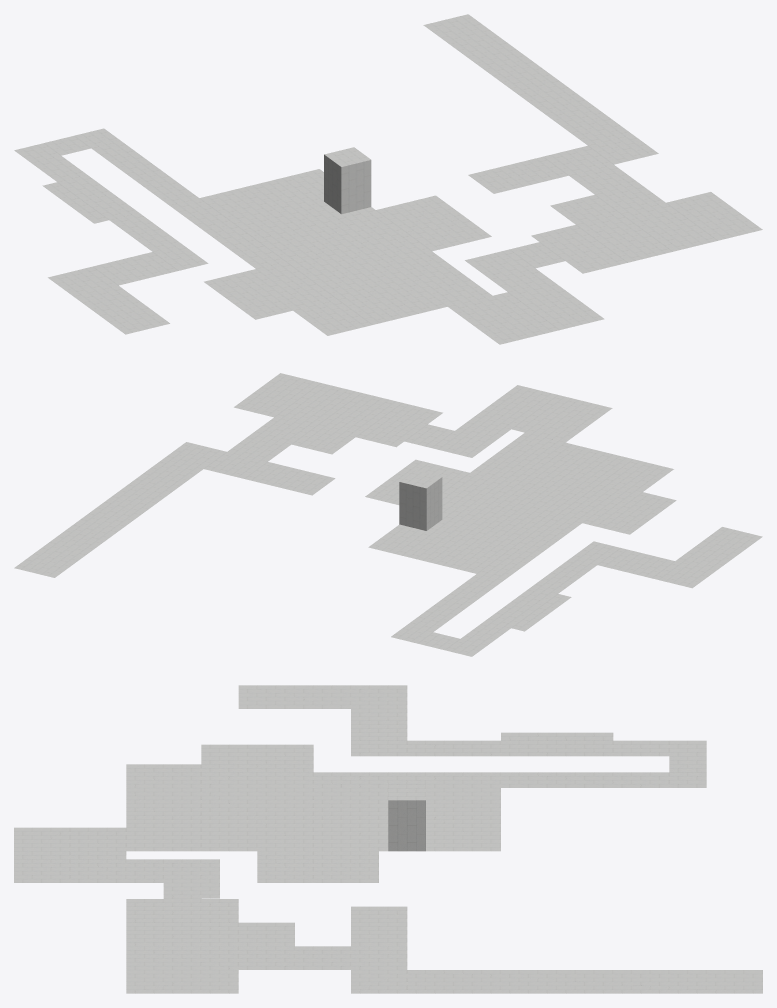
Rendered from fall_01.obj.
The picture shows the model from 3 angles, top to bottom: view 1: azimuth 30°, elevation 25°; view 2: azimuth 150°, elevation 25°; view 3: azimuth 270°, elevation 25°; orthographic projection. The views are drawn at different scales.
Parts seen in each view (by area): view 1: fall_01; view 2: fall_01; view 3: fall_01.
Boxes of the visible parts, x1=… form: fall_01: x1=14, y1=14, x2=762, y2=344; fall_01: x1=14, y1=373, x2=762, y2=656; fall_01: x1=14, y1=685, x2=762, y2=993.
Size of the model in its own units: 39 by 3 by 40.
Materials: 1 (1 with a texture image).
